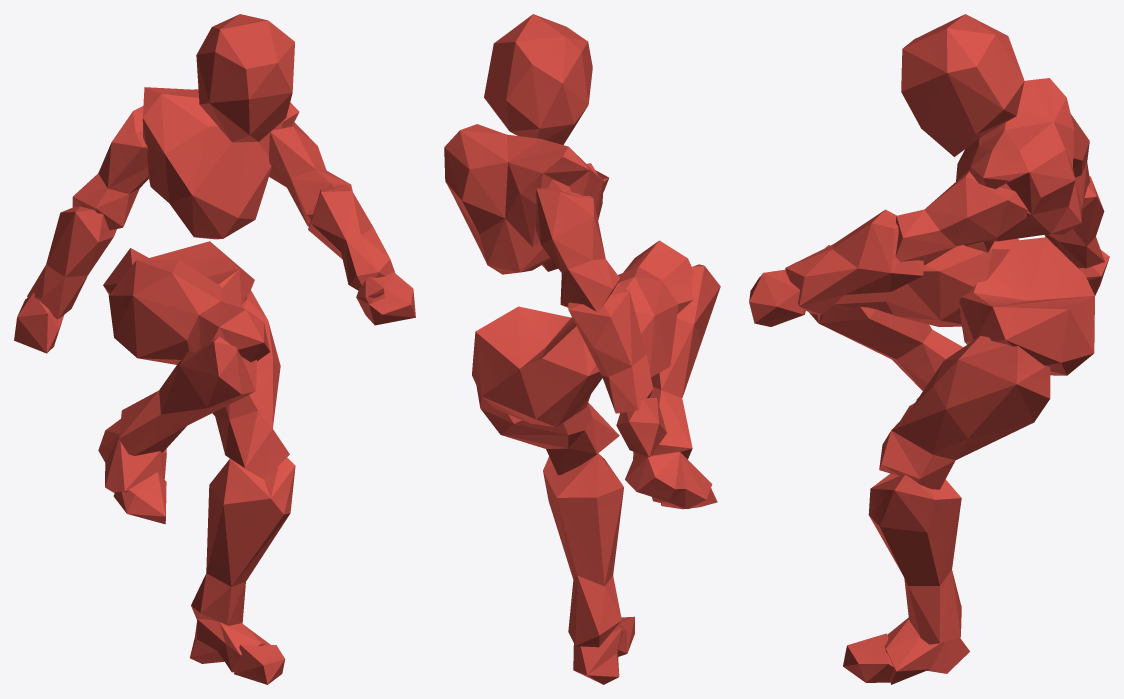
The model's file is 2dancer0164.obj.
The picture shows the model from 3 angles, left to right: view 1: azimuth 30°, elevation 25°; view 2: azimuth 150°, elevation 25°; view 3: azimuth 270°, elevation 25°; orthographic projection. The views are drawn at different scales.
Visible parts, largest first — view 1: Beta_Surface; view 2: Beta_Surface; view 3: Beta_Surface.
Boxes of the visible parts, left/top/right/bottom form: Beta_Surface: left=14, top=14, right=415, bottom=684; Beta_Surface: left=444, top=14, right=720, bottom=684; Beta_Surface: left=749, top=14, right=1109, bottom=684.
Size of the model in its own units: 0.7459 by 1.74 by 0.8417.
